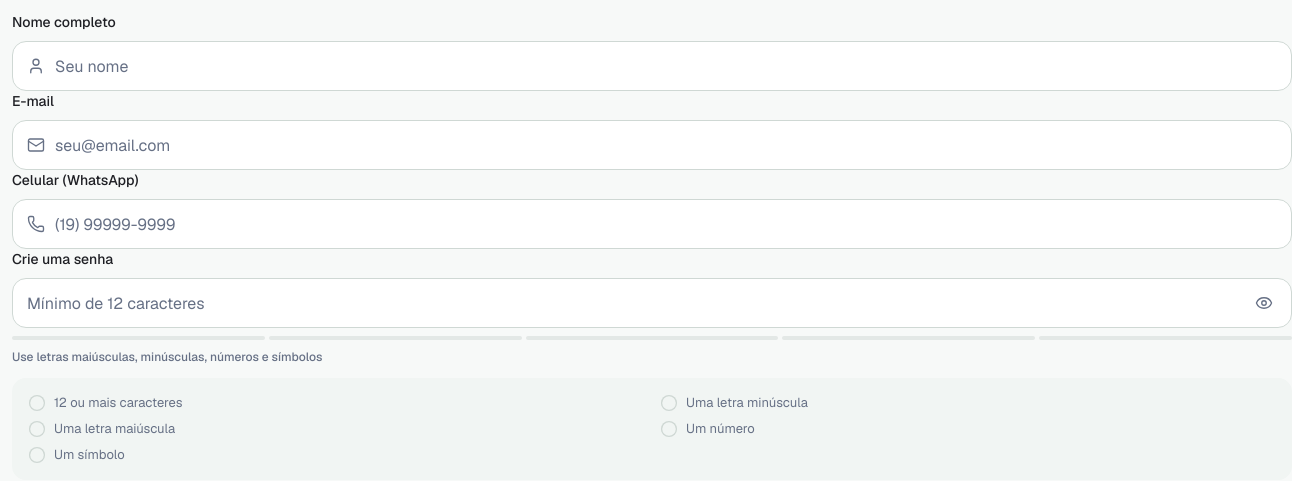
Test case: SignupStepCoordinator › deve permitir mostrar e ocultar a senha sem alterar seu valor
Type "Senha-Segura123" into the password field labelled "Crie uma senha".
click(631, 303); type("Senha-Segura123")  # box [27,279,1235,327]
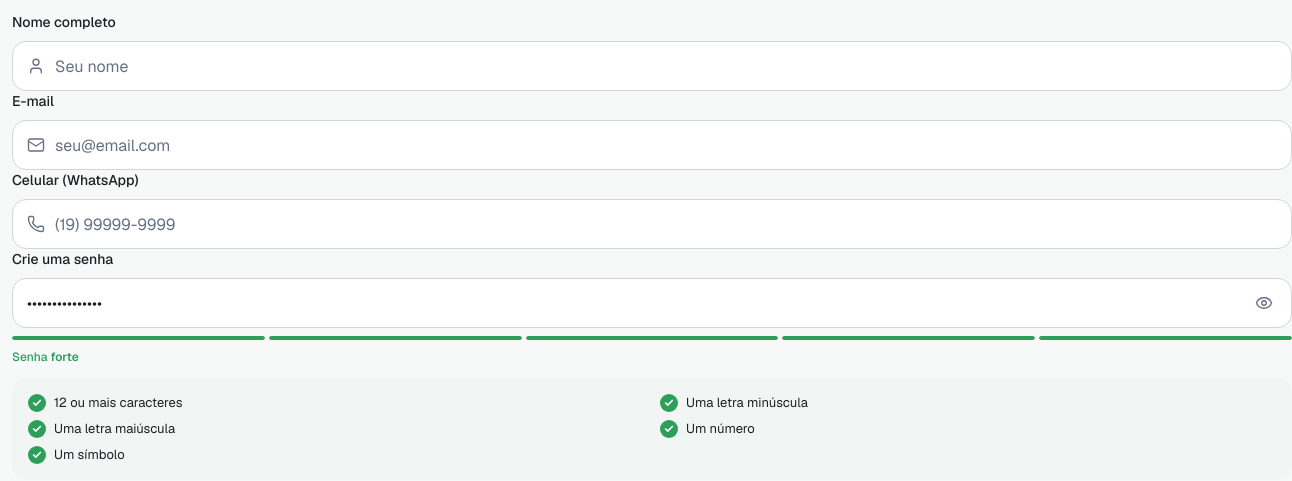
Click the button named "Mostrar senha".
click(1264, 303)  # box [1245,284,1283,322]
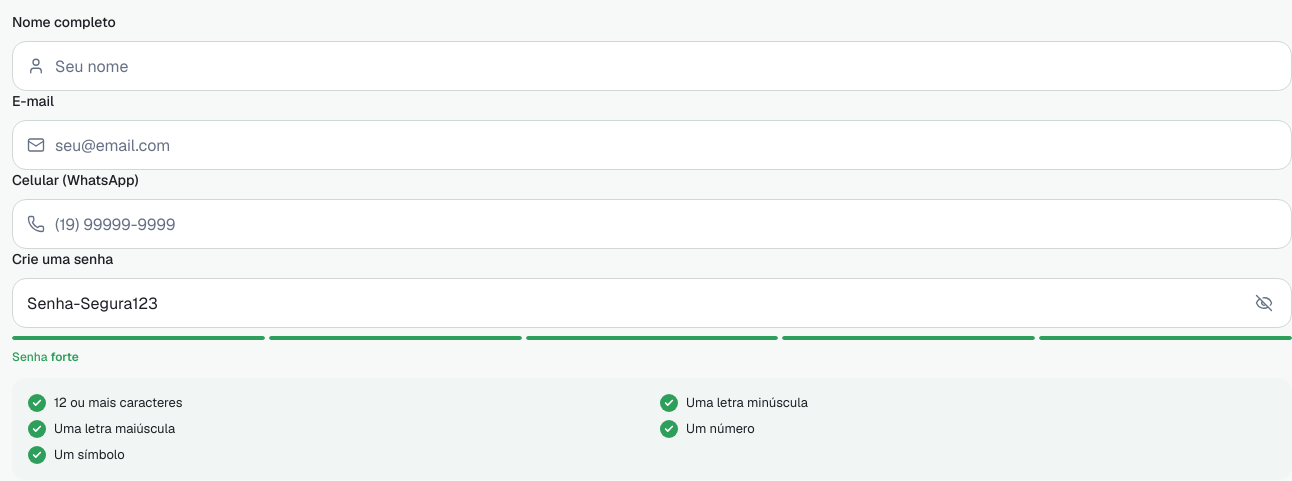
Expected: the field labelled "Crie uma senha" shows its text, [27,279,1235,327]
Click the button named "Ocultar senha".
click(1264, 303)  # box [1245,284,1283,322]
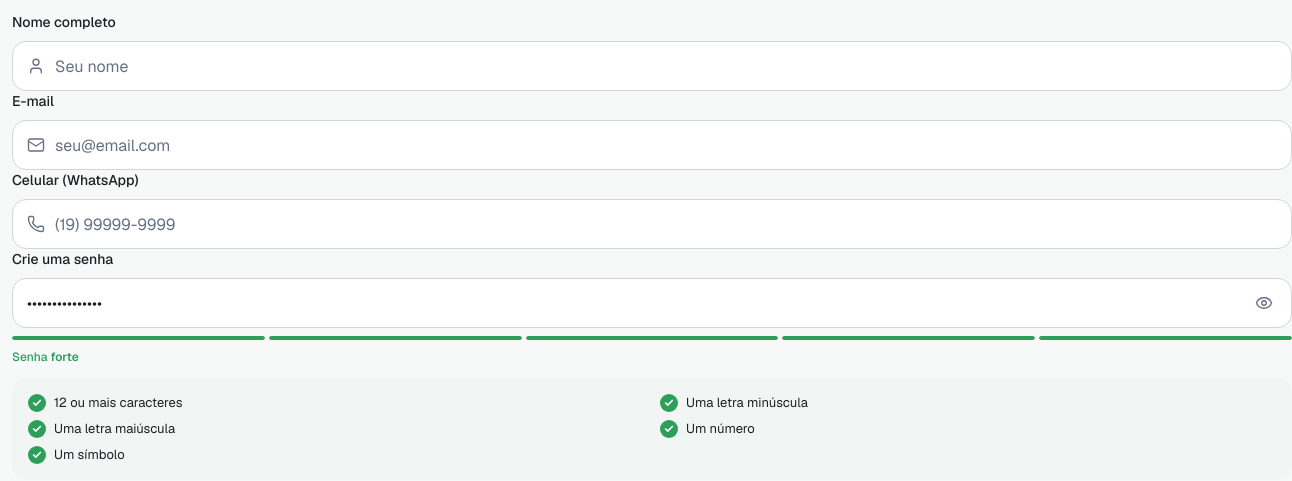
Expected: the password field labelled "Crie uma senha" hides its text, [27,279,1235,327]
